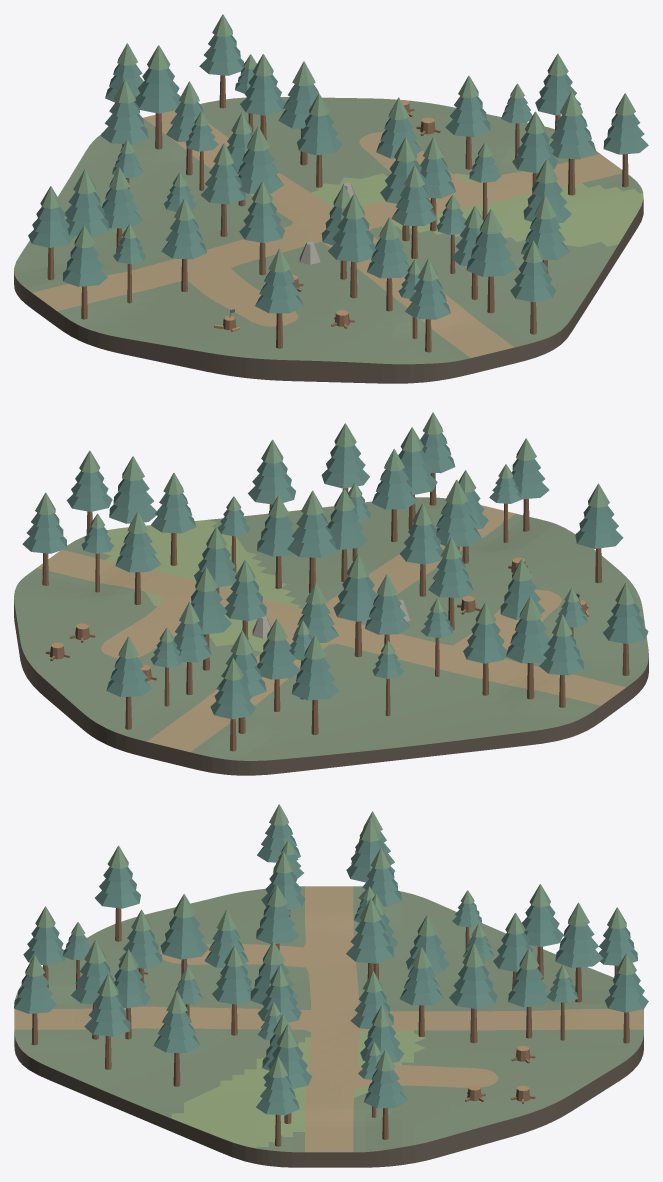
The model's file is tv_47_01_pine_forest.glb.
3 views of the same model, one above another, from view 1: azimuth 30°, elevation 25°; view 2: azimuth 150°, elevation 25°; view 3: azimuth 270°, elevation 25° (orthographic). The views are drawn at different scales.
Parts seen in each view (by area): view 1: tv_47_01_pine_forest_continuous_ground, landscape_pine_tall_0027, landscape_pine_tall_0024, landscape_pine_tall_0017, landscape_pine_tall_0045, landscape_pine_tall_0049, landscape_pine_tall_0012, landscape_pine_tall_0026, landscape_pine_tall_0033, landscape_pine_tall_0004, landscape_pine_tall_0005, landscape_pine_tall_0047 (+34 smaller); view 2: tv_47_01_pine_forest_continuous_ground, landscape_pine_tall_0031, landscape_pine_tall_0007, landscape_pine_tall_0049, landscape_pine_tall_0020, landscape_pine_tall_0053, landscape_pine_tall_0045, landscape_pine_tall_0050, landscape_pine_tall_0009, landscape_pine_tall_0004, landscape_pine_tall_0025, landscape_pine_tall_0017 (+34 smaller); view 3: tv_47_01_pine_forest_continuous_ground, landscape_pine_tall_0034, landscape_pine_tall_0024, landscape_pine_tall_0049, landscape_pine_tall_0050, landscape_pine_tall_0017, landscape_pine_tall_0020, landscape_pine_tall_0051, landscape_pine_tall_0053, landscape_pine_tall_0037, landscape_pine_tall_0026, landscape_pine_tall_0035 (+28 smaller).
Boxes of the visible parts, <box> form: tv_47_01_pine_forest_continuous_ground: <box>14,97,643,383</box>; landscape_pine_tall_0027: <box>466,209,516,313</box>; landscape_pine_tall_0024: <box>134,45,180,149</box>; landscape_pine_tall_0017: <box>328,194,376,298</box>; landscape_pine_tall_0045: <box>550,91,596,195</box>; landscape_pine_tall_0049: <box>255,248,303,348</box>; landscape_pine_tall_0012: <box>239,181,285,275</box>; landscape_pine_tall_0026: <box>510,240,555,334</box>; landscape_pine_tall_0033: <box>297,93,342,187</box>; landscape_pine_tall_0004: <box>63,225,107,319</box>; landscape_pine_tall_0005: <box>28,186,73,279</box>; landscape_pine_tall_0047: <box>603,93,648,187</box>; tv_47_01_pine_forest_continuous_ground: <box>14,497,648,775</box>; landscape_pine_tall_0031: <box>287,490,337,592</box>; landscape_pine_tall_0007: <box>506,596,549,699</box>; landscape_pine_tall_0049: <box>575,483,623,583</box>; landscape_pine_tall_0020: <box>333,553,377,657</box>; landscape_pine_tall_0053: <box>291,635,339,734</box>; landscape_pine_tall_0045: <box>109,456,156,523</box>; landscape_pine_tall_0050: <box>321,423,369,493</box>; landscape_pine_tall_0009: <box>463,602,507,695</box>; landscape_pine_tall_0004: <box>603,583,648,675</box>; landscape_pine_tall_0025: <box>210,658,255,751</box>; landscape_pine_tall_0017: <box>436,479,481,550</box>; tv_47_01_pine_forest_continuous_ground: <box>14,886,643,1167</box>; landscape_pine_tall_0034: <box>449,943,497,1043</box>; landscape_pine_tall_0024: <box>555,902,603,1002</box>; landscape_pine_tall_0049: <box>95,845,140,941</box>; landscape_pine_tall_0050: <box>84,973,130,1069</box>; landscape_pine_tall_0017: <box>160,894,208,976</box>; landscape_pine_tall_0020: <box>346,898,393,979</box>; landscape_pine_tall_0051: <box>153,991,200,1086</box>; landscape_pine_tall_0053: <box>522,884,563,979</box>; landscape_pine_tall_0037: <box>604,953,648,1043</box>; landscape_pine_tall_0026: <box>14,955,56,1045</box>; landscape_pine_tall_0035: <box>508,948,549,1038</box>.
Size of the model in its own units: 53.05 by 10.65 by 52.43.
